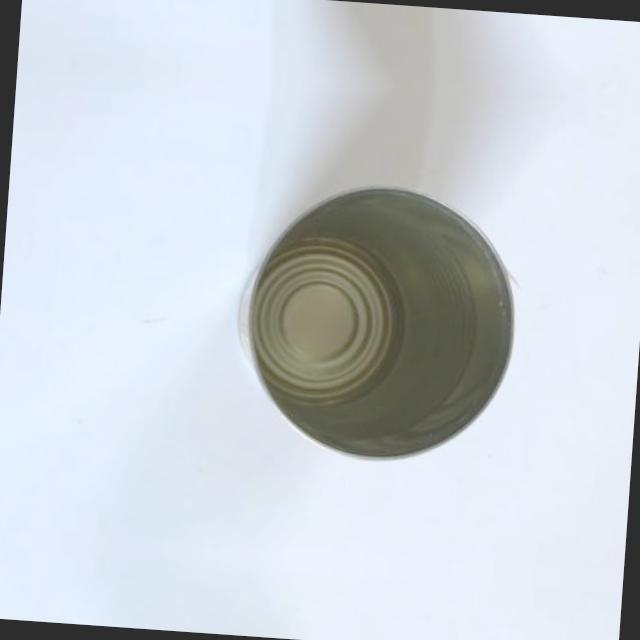Metal: (215, 175, 538, 477)
